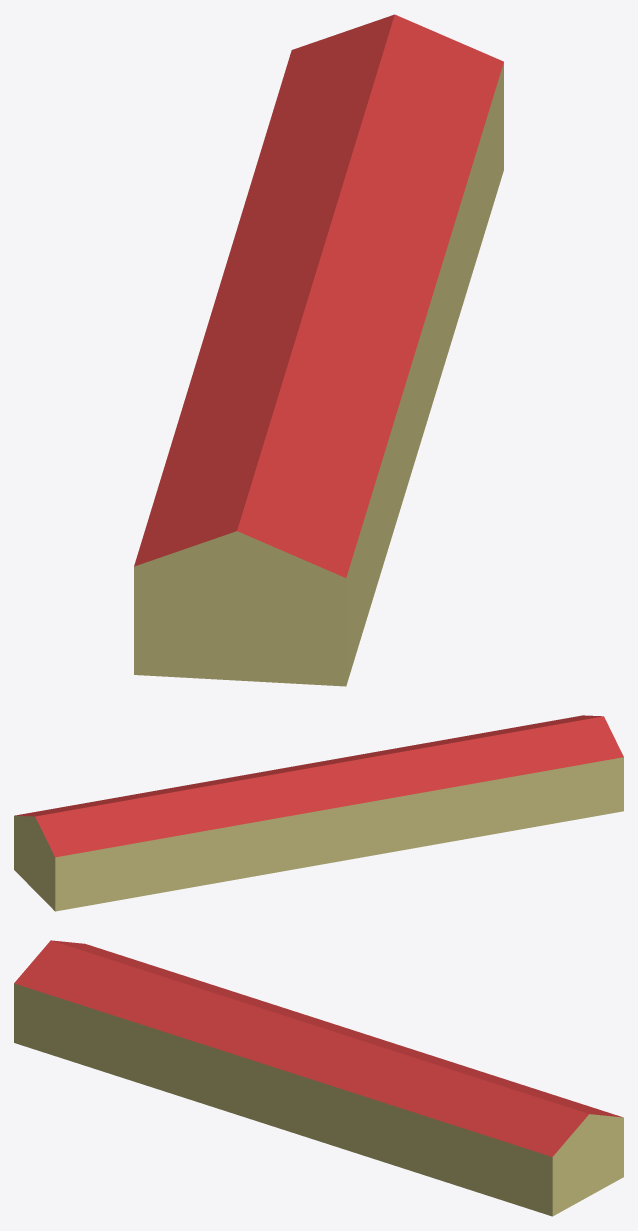
3 views of the same model, one above another, from view 1: azimuth 30°, elevation 25°; view 2: azimuth 150°, elevation 25°; view 3: azimuth 270°, elevation 25° (orthographic). The views are drawn at different scales.
Bounding box in the file's own units: 44.85 × 54.2 × 8.06.
